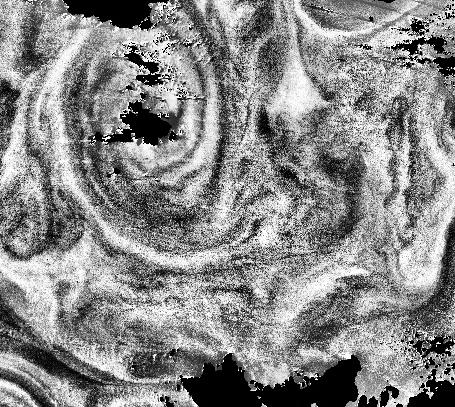AE: (47, 20, 223, 202)
